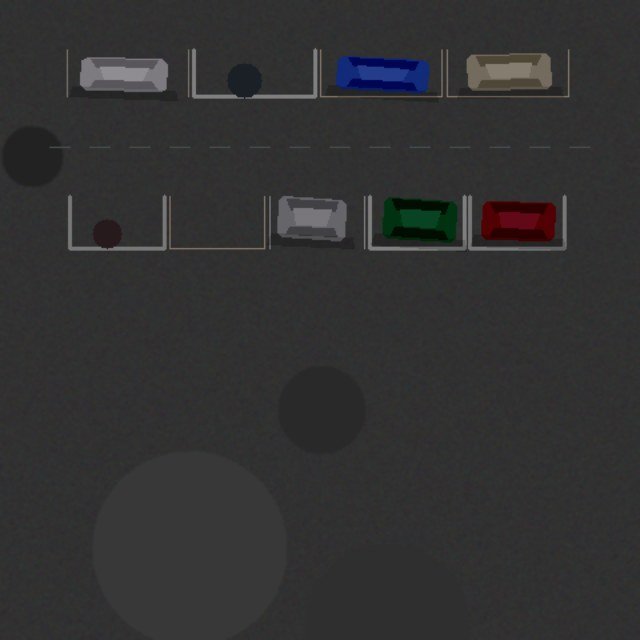space-empty: (193, 49, 315, 96), (69, 196, 164, 248), (169, 196, 264, 248)
space-occupied: (67, 49, 188, 96), (320, 49, 441, 96), (447, 49, 568, 96), (269, 196, 364, 248), (369, 196, 464, 248), (469, 196, 564, 248)
